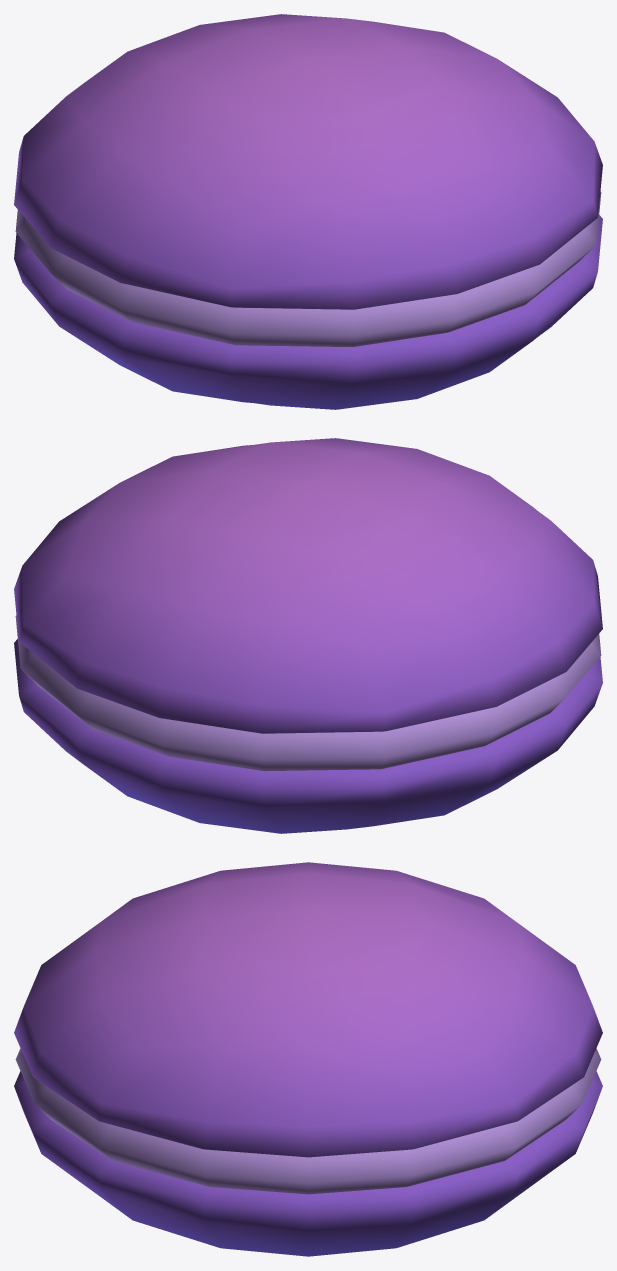
Rendered from cookie_007.fbx.
3 views of the same model, one above another, from view 1: azimuth 30°, elevation 25°; view 2: azimuth 150°, elevation 25°; view 3: azimuth 270°, elevation 25° (orthographic).
Visible parts, largest first — view 1: cookie_007; view 2: cookie_007; view 3: cookie_007.
Boxes of the visible parts, box(x1,y1,x2,y2) form: cookie_007: box(14, 14, 602, 409); cookie_007: box(14, 438, 602, 833); cookie_007: box(14, 862, 602, 1256).
Size of the model in its own units: 5.37 by 5.37 by 3.02.
